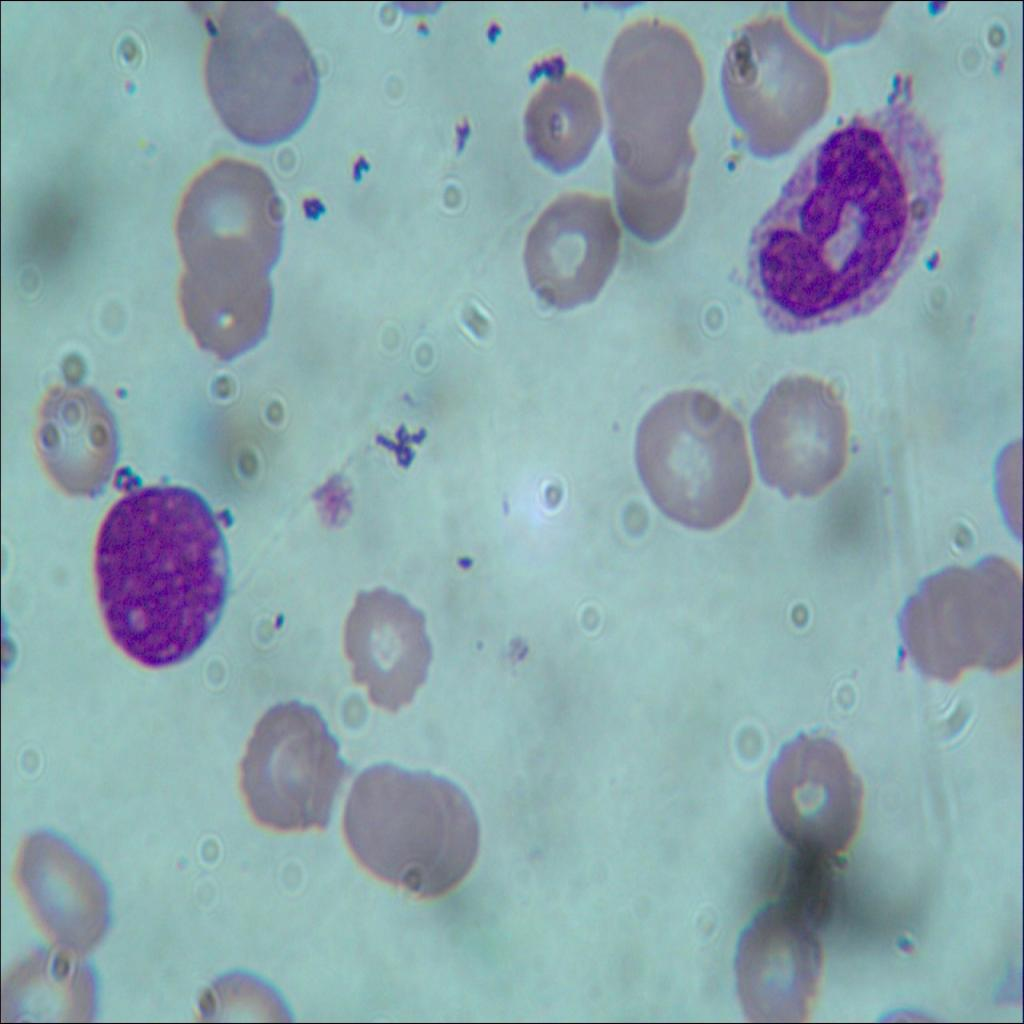Eritrosit: (200, 8, 326, 154), (636, 387, 748, 542), (234, 696, 343, 850), (722, 15, 838, 158), (759, 727, 875, 861), (748, 368, 854, 512), (166, 150, 284, 276), (18, 821, 118, 959), (341, 580, 436, 719), (519, 194, 622, 317), (396, 768, 484, 908), (730, 903, 832, 1023), (344, 758, 438, 886), (34, 370, 123, 505), (178, 234, 276, 355), (602, 20, 706, 121), (894, 568, 980, 680), (608, 71, 699, 174), (958, 548, 1024, 678), (0, 938, 101, 1020), (611, 148, 695, 242), (514, 74, 598, 165)
Limfoblast: (84, 477, 236, 674)
Neutrofil: (748, 95, 949, 348)
Platelet: (314, 470, 355, 528), (720, 141, 750, 188), (446, 542, 478, 580), (266, 602, 296, 630), (484, 14, 511, 45)
